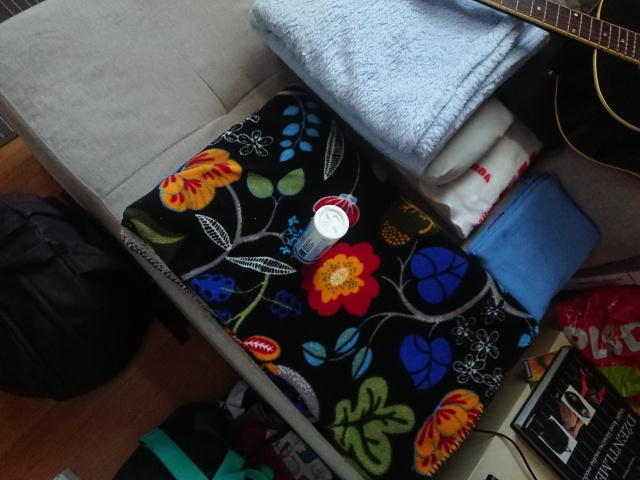Solana Pag Fine Sea Salt 250g: (290, 202, 352, 267)
